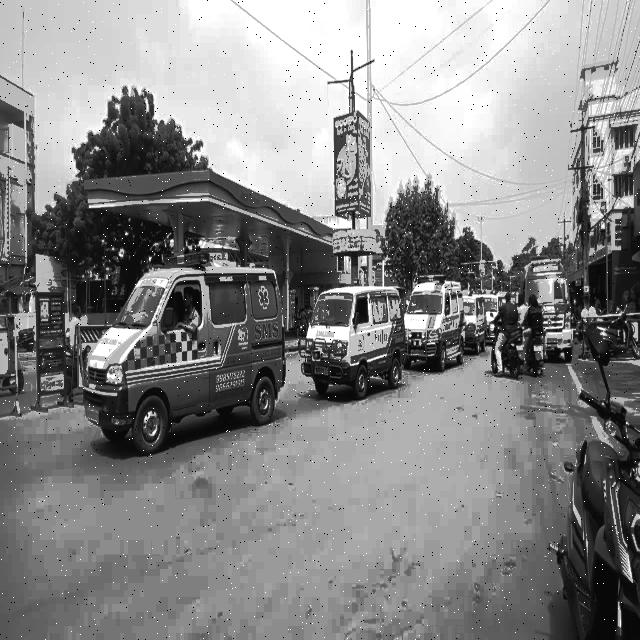Ambulance: (86, 263, 294, 453), (306, 279, 410, 426), (520, 263, 576, 374), (416, 272, 458, 374), (464, 283, 497, 353)
